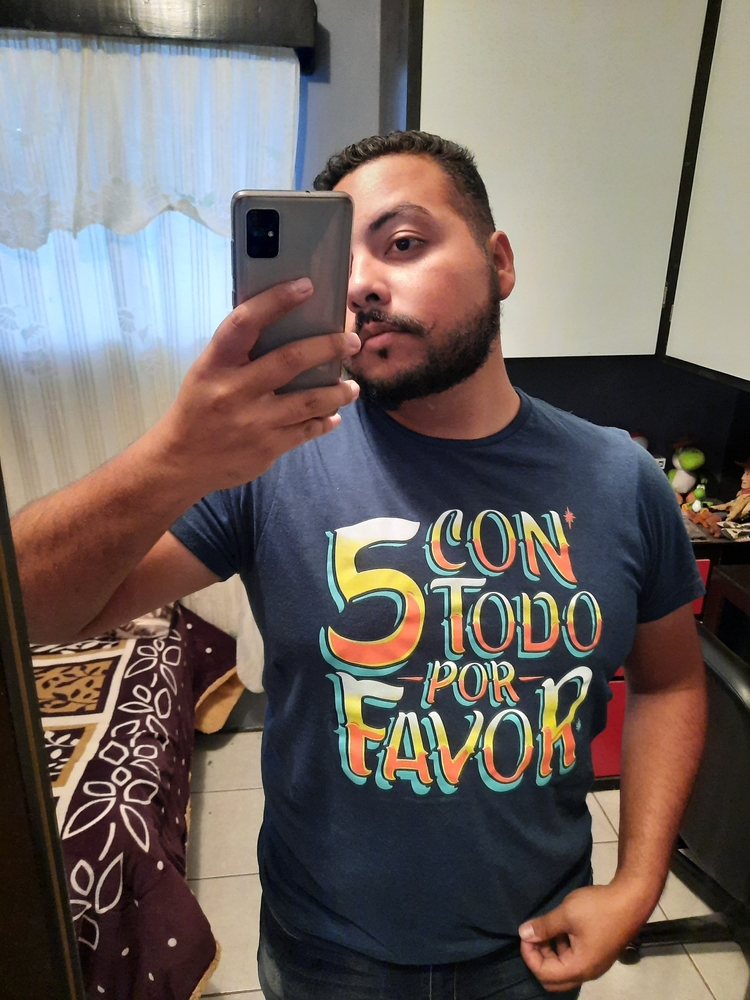Yoshi: (314, 112, 563, 417)
